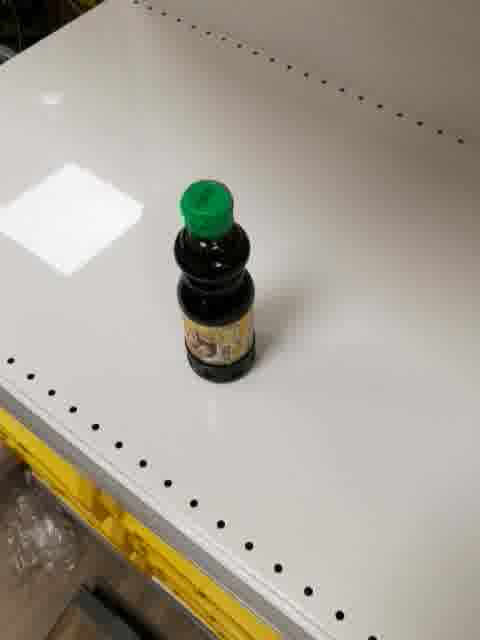cookingoil: (171, 178, 258, 385)
